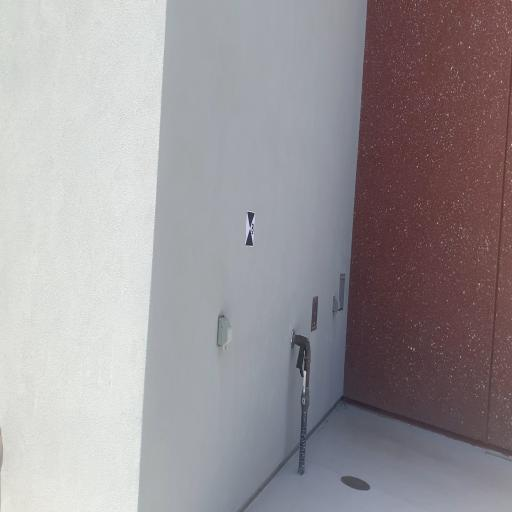target8: (244, 211, 255, 246)
